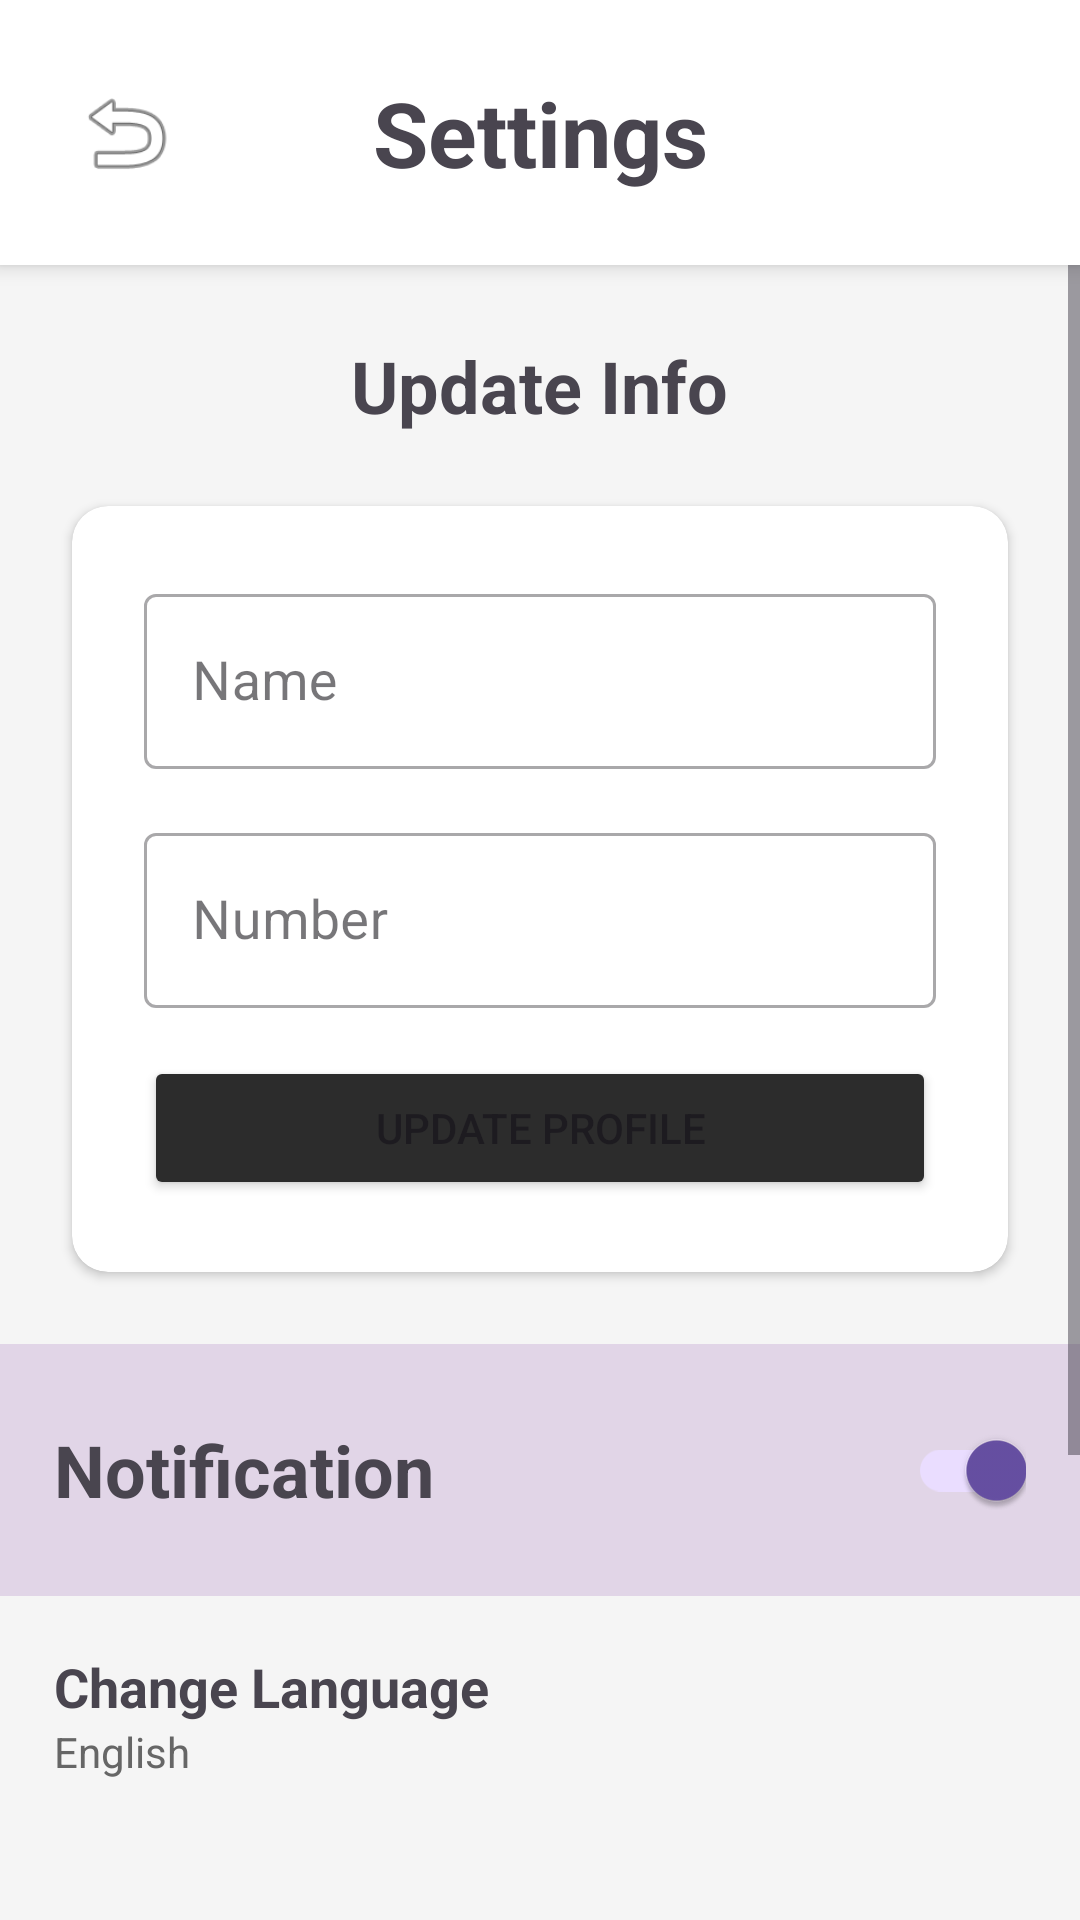

Screen size 1080px x 1920px. Icon name, then its box in pixels as (x1, y1, x2, y2):
revert: (88, 99, 167, 169)
